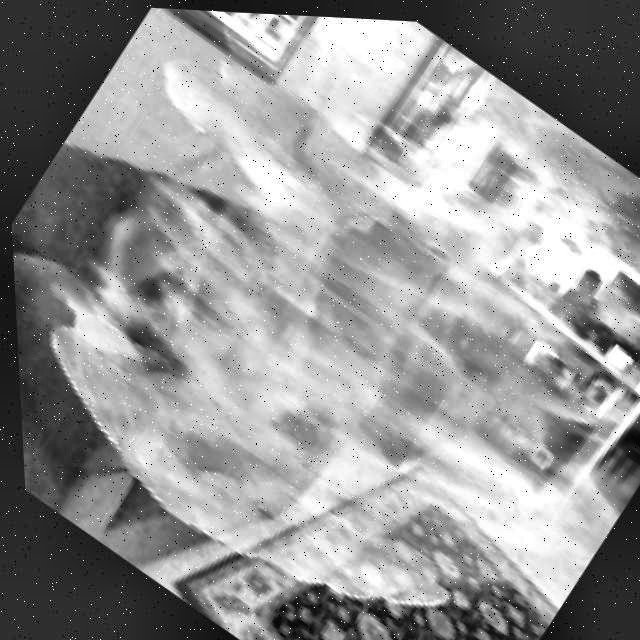Smoke: (12, 8, 640, 640)
